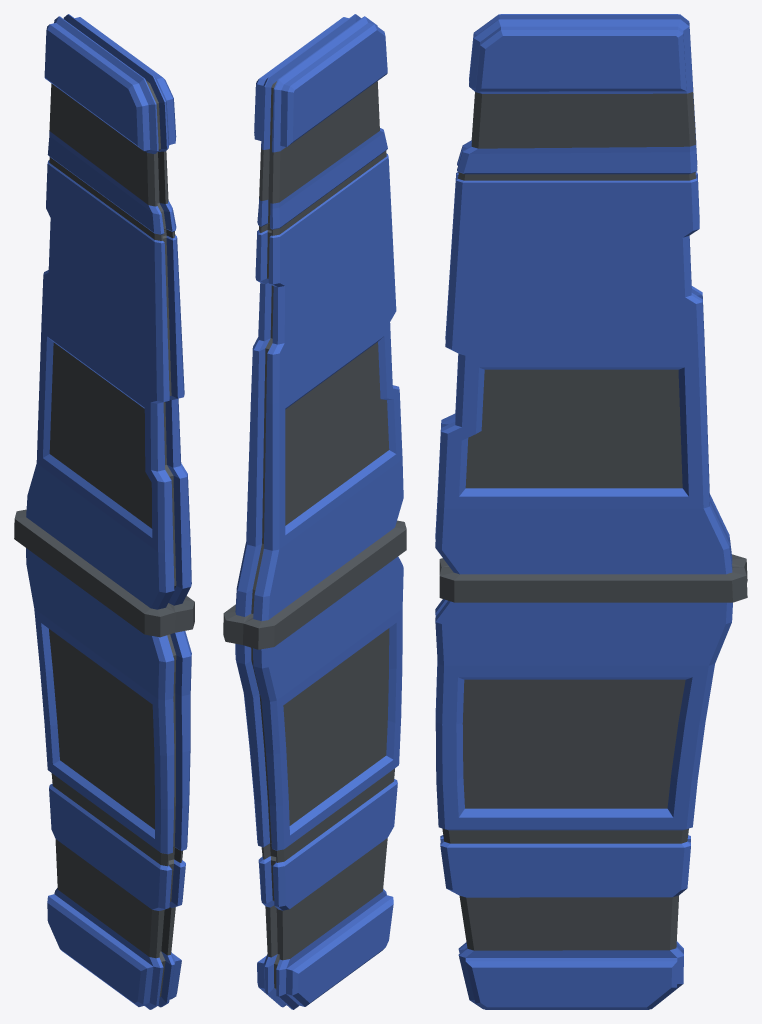
The model's file is Fighter_05_Wing_RIght_Blue.fbx.
3 renders of one model, left to right at view 1: azimuth 30°, elevation 25°; view 2: azimuth 150°, elevation 25°; view 3: azimuth 270°, elevation 25°, orthographic. The views are drawn at different scales.
Parts seen in each view (by area): view 1: Fighter_05_Wing_RIght_Blue; view 2: Fighter_05_Wing_RIght_Blue; view 3: Fighter_05_Wing_RIght_Blue.
Part boxes in pixels (x1,y1,x2,y2): Fighter_05_Wing_RIght_Blue: (14, 14, 194, 1009); Fighter_05_Wing_RIght_Blue: (223, 14, 406, 1009); Fighter_05_Wing_RIght_Blue: (435, 14, 747, 1009).
Bounding box in the file's own units: 103 × 1811 × 518.
1 material, 1 textured.
